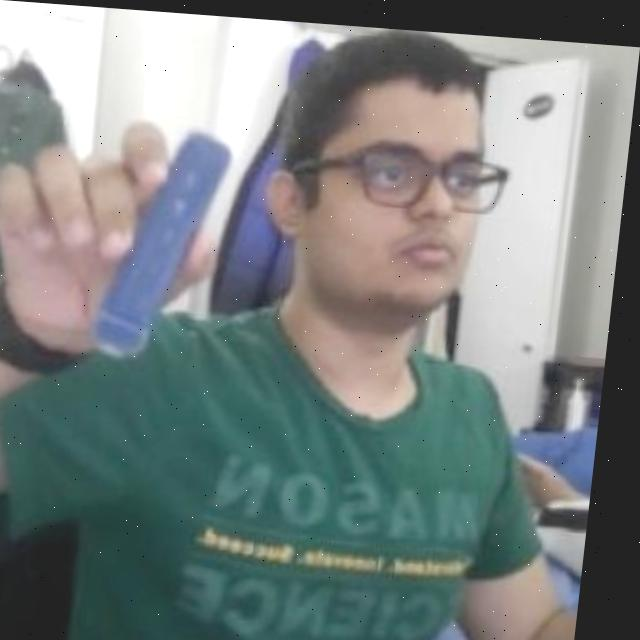vape: (98, 121, 238, 362)
